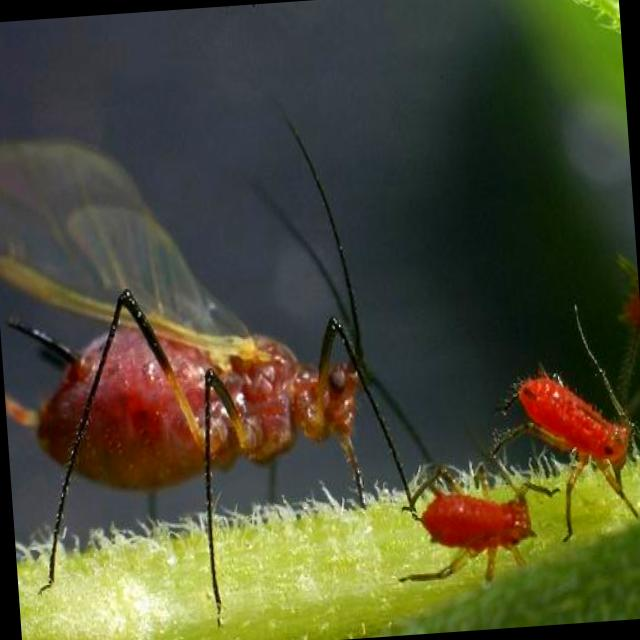Aphids: (12, 212, 414, 580), (498, 347, 640, 520)
